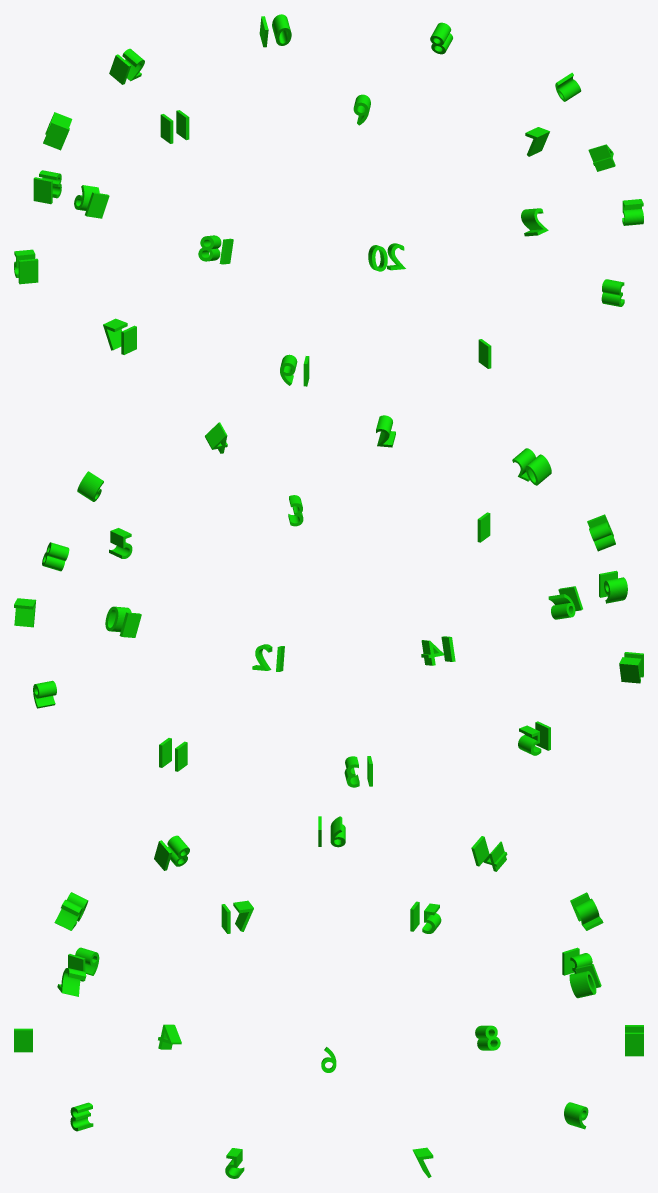
File: numeros.glb
The picture shows the model from 3 angles, top to bottom: view 1: azimuth 30°, elevation 25°; view 2: azimuth 150°, elevation 25°; view 3: azimuth 270°, elevation 25°; orthographic projection.
Visible parts, largest first — view 1: n1; view 2: n1; view 3: n1.
Boxes of the visible parts, x1,y1,x2,y2 form: n1: [14, 14, 643, 386]; n1: [14, 415, 643, 787]; n1: [14, 816, 643, 1178].
Bounding box in the file's own units: 16.94 × 3.69 × 17.58.
